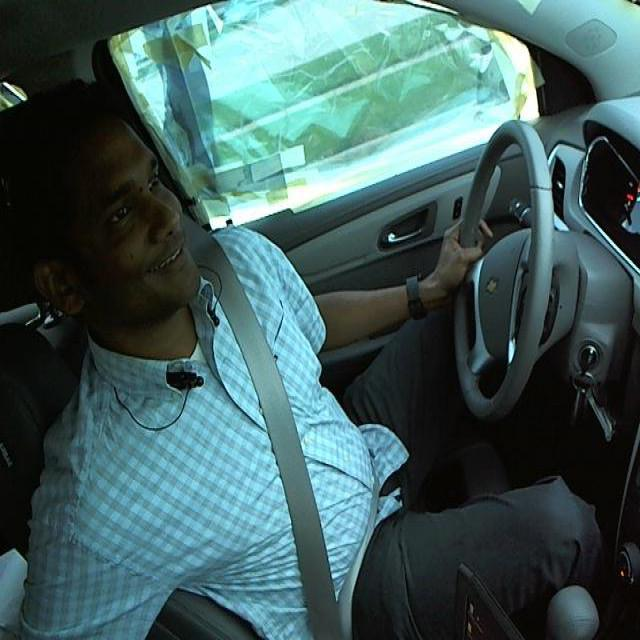seatbelt: (204, 292, 347, 568)
